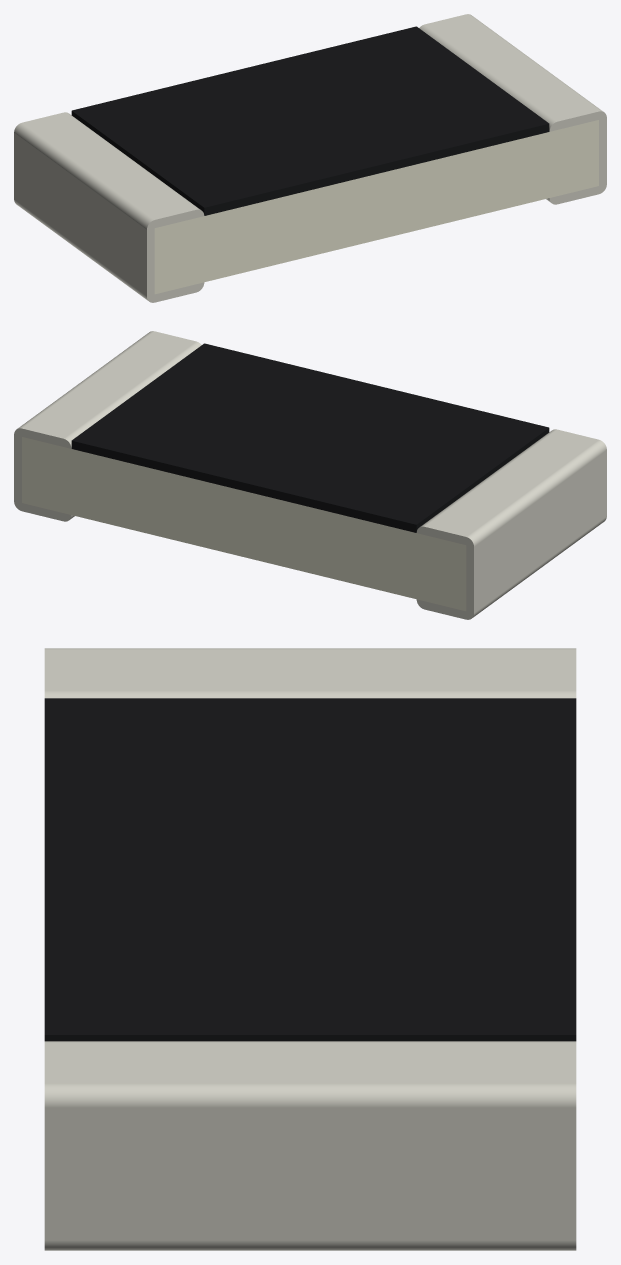
The model's file is Resistor_SMD__R_1206_3216Metric.glb.
3 renders of one model, top to bottom at view 1: azimuth 30°, elevation 25°; view 2: azimuth 150°, elevation 25°; view 3: azimuth 270°, elevation 25°, orthographic. The views are drawn at different scales.
Parts seen in each view (by area): view 1: R_1206_3216Metric; view 2: R_1206_3216Metric; view 3: R_1206_3216Metric.
Boxes of the visible parts, <box> form: R_1206_3216Metric: <box>14,14,606,302</box>; R_1206_3216Metric: <box>14,331,606,619</box>; R_1206_3216Metric: <box>44,648,576,1250</box>.
Bounding box in the file's own units: 0.0032 × 0.00055 × 0.0016.
